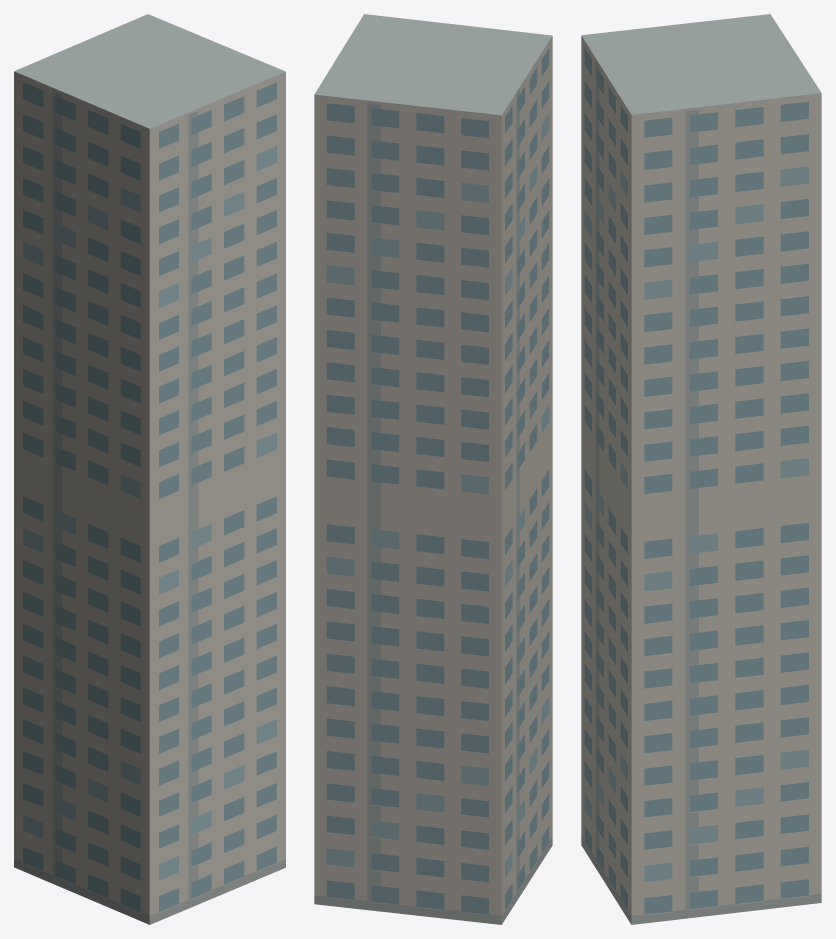
File: survey-upis-32984904.glb
3 views of the same model, side by side, from view 1: azimuth 30°, elevation 25°; view 2: azimuth 150°, elevation 25°; view 3: azimuth 270°, elevation 25° (orthographic).
Parts seen in each view (by area): view 1: survey-upis-32984904.tmp; view 2: survey-upis-32984904.tmp; view 3: survey-upis-32984904.tmp.
Boxes of the visible parts, x1,y1,x2,y2 form: survey-upis-32984904.tmp: (14,14,285,924); survey-upis-32984904.tmp: (314,14,552,924); survey-upis-32984904.tmp: (581,14,821,924).
Bounding box in the file's own units: 20.41 × 76.25 × 20.51.
